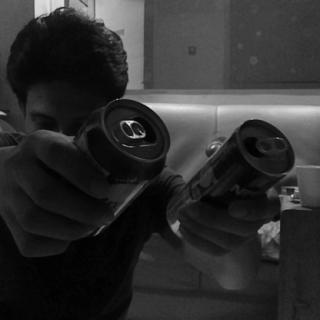alumunium_can: (167, 120, 297, 248), (56, 99, 171, 239)
